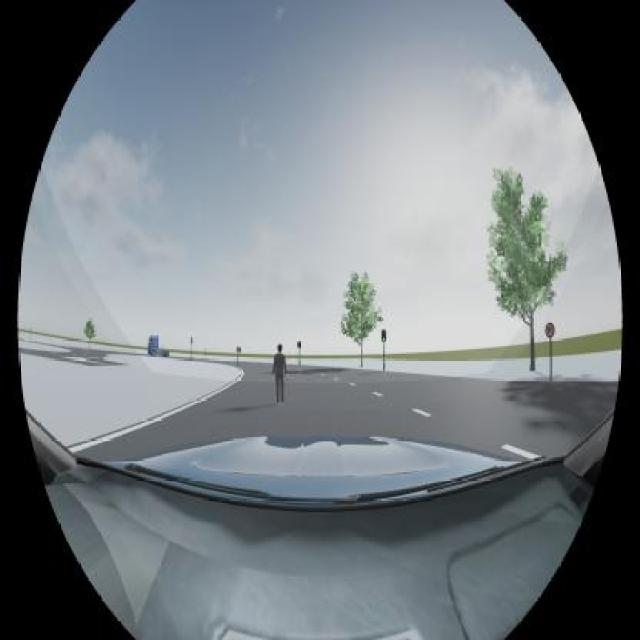forb_speed_over_70: (236, 347, 241, 353)
